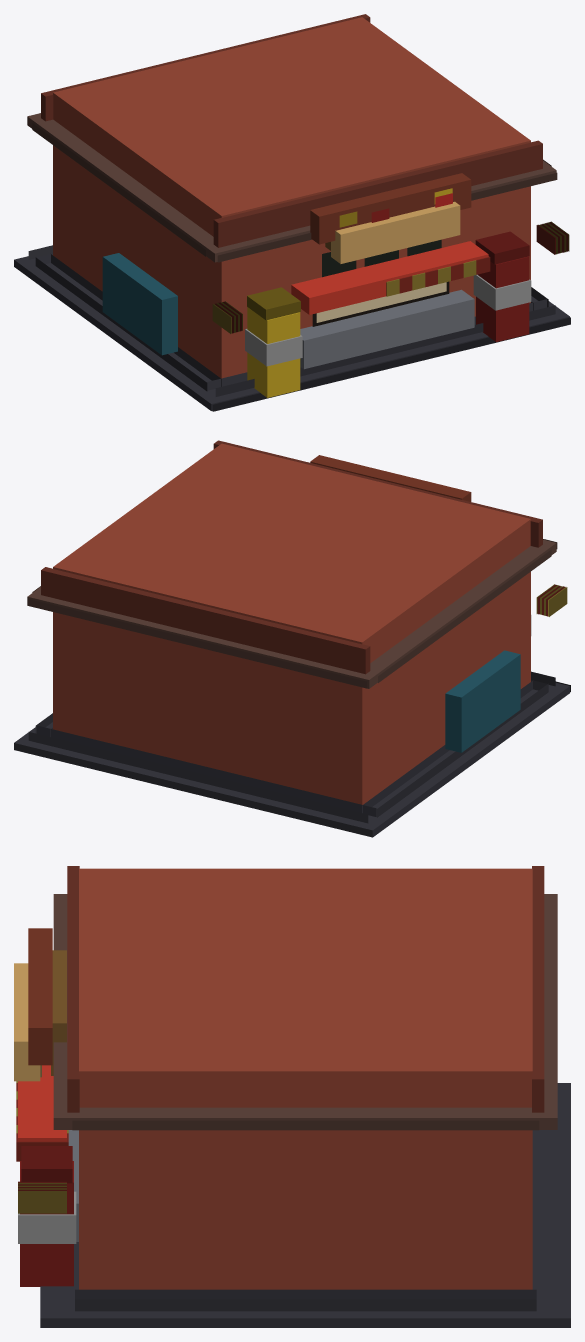
File: CrystalHotDogSil.fbx
3 renders of one model, top to bottom at view 1: azimuth 30°, elevation 25°; view 2: azimuth 150°, elevation 25°; view 3: azimuth 270°, elevation 25°, orthographic. The views are drawn at different scales.
Parts seen in each view (by area): view 1: HD_S_All; view 2: HD_S_All; view 3: HD_S_All.
Boxes of the visible parts, <box> form: HD_S_All: <box>14,14,570,411</box>; HD_S_All: <box>14,440,570,837</box>; HD_S_All: <box>14,866,570,1327</box>.
Bounding box in the file's own units: 42.04 × 20 × 42.04.
